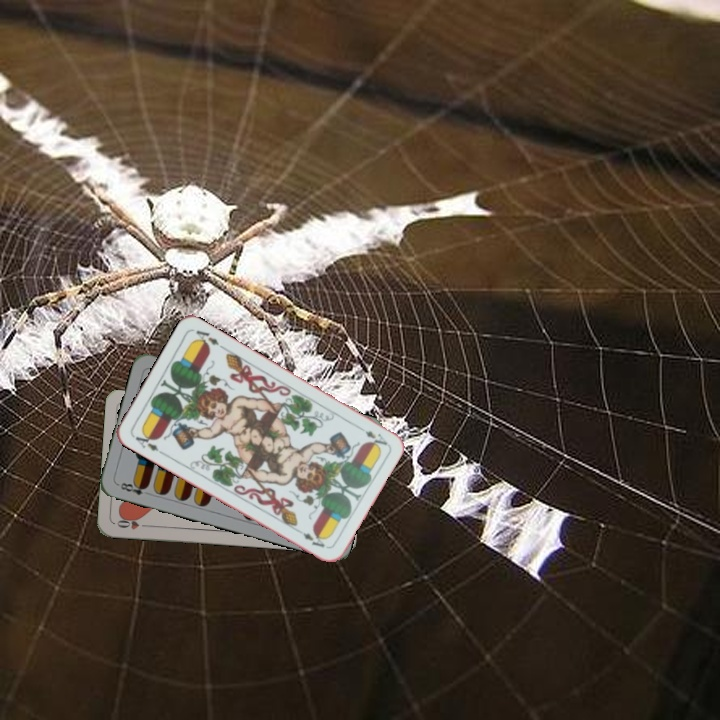E8: (114, 478, 153, 498)
EA: (353, 421, 390, 449), (131, 428, 166, 457)
HO: (113, 514, 152, 532)
